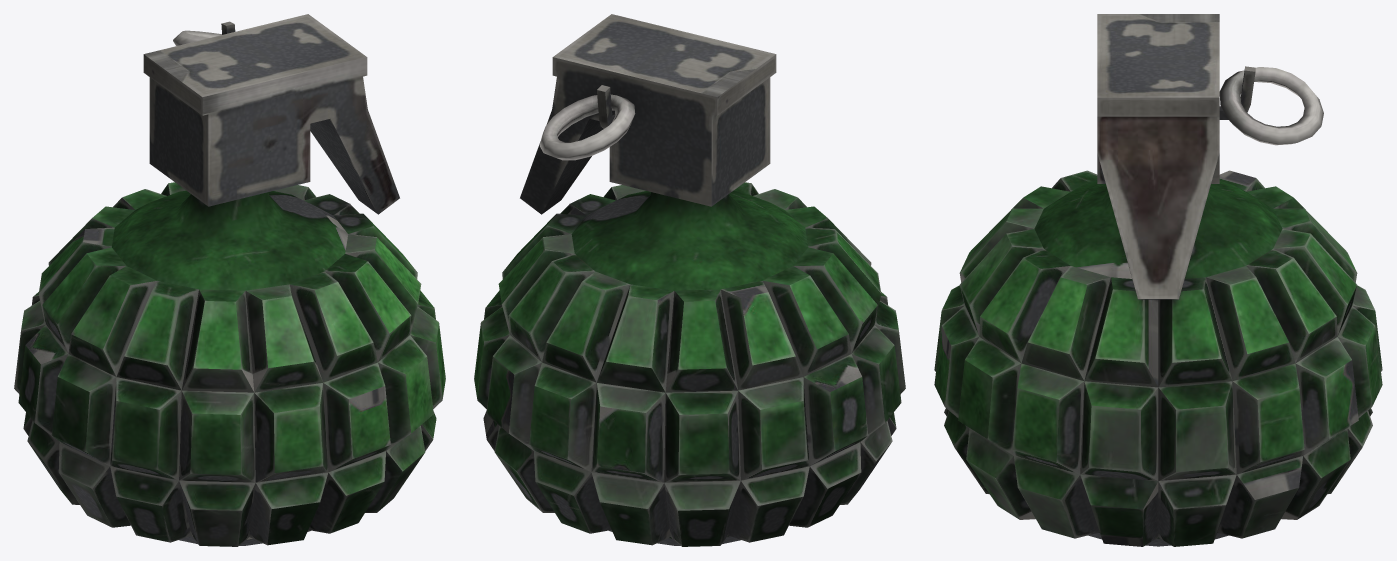
Rendered from frag_grenade_alt.glb.
The picture shows the model from 3 angles, left to right: view 1: azimuth 30°, elevation 25°; view 2: azimuth 150°, elevation 25°; view 3: azimuth 270°, elevation 25°; orthographic projection. The views are drawn at different scales.
Visible parts, largest first — view 1: nadevariant_low, nadevarianthaut_low; view 2: nadevariant_low, nadevarianthaut_low, nadevarianthaut_low.001; view 3: nadevariant_low, nadevarianthaut_low, nadevarianthaut_low.001.
Part boxes in pixels (<box>): nadevariant_low: <box>14,182,445,546</box>; nadevarianthaut_low: <box>143,14,399,214</box>; nadevariant_low: <box>474,182,905,546</box>; nadevarianthaut_low: <box>520,14,776,214</box>; nadevarianthaut_low.001: <box>539,94,635,160</box>; nadevariant_low: <box>934,170,1382,546</box>; nadevarianthaut_low: <box>1097,14,1255,299</box>; nadevarianthaut_low.001: <box>1219,67,1323,145</box>.
Size of the model in its own units: 0.1223 by 0.1413 by 0.1223.
Materials: 1 (1 with a texture image).
